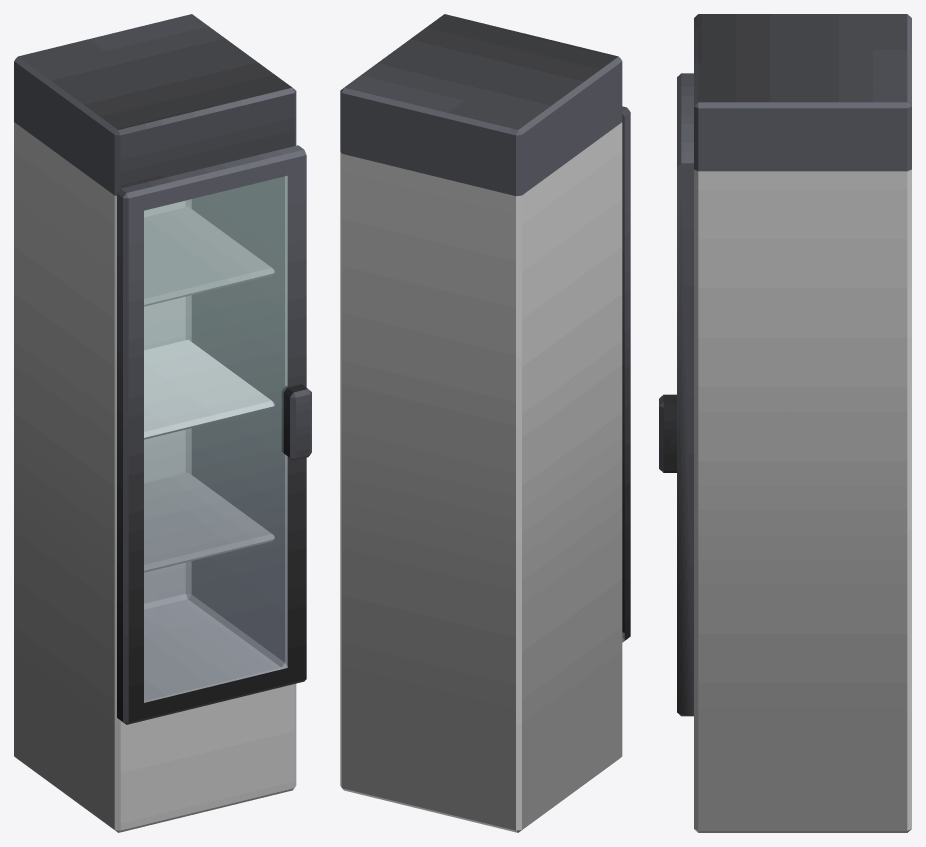
File: frigogidaire_small.glb
3 renders of one model, left to right at view 1: azimuth 30°, elevation 25°; view 2: azimuth 150°, elevation 25°; view 3: azimuth 270°, elevation 25°, orthographic. The views are drawn at different scales.
Parts seen in each view (by area): view 1: Cube.001, Cube.002; view 2: Cube.001; view 3: Cube.001.
Part boxes in pixels (x1,y1,x2,y2): Cube.001: (14,14,311,832); Cube.002: (144,176,287,702); Cube.001: (340,14,630,832); Cube.001: (659,14,911,832).
Bounding box in the file's own units: 1 × 3.7 × 1.16.
2 materials, 2 textured.
